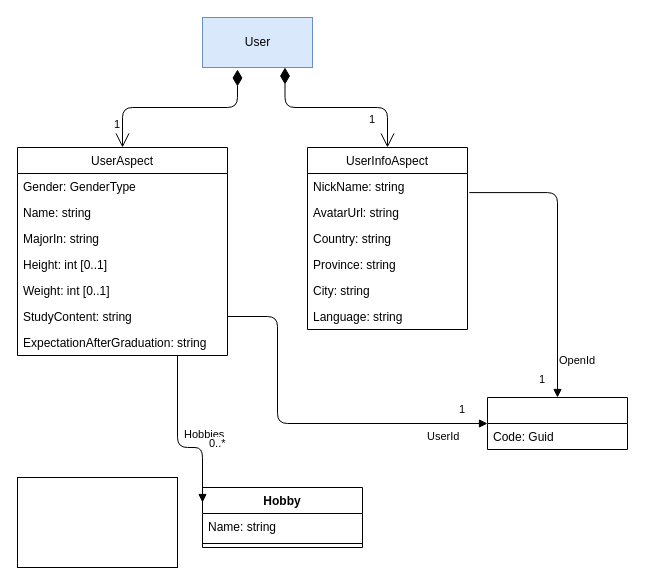
This 645x585 diagram has some shape labels left out. Here are the shapes that lost their labels. From the top down, the box of each, then its label:
(486, 396, 628, 450): OpenIdReference
(16, 476, 178, 568): GenderType Male = 0 Female = 1 Unknown = 2
